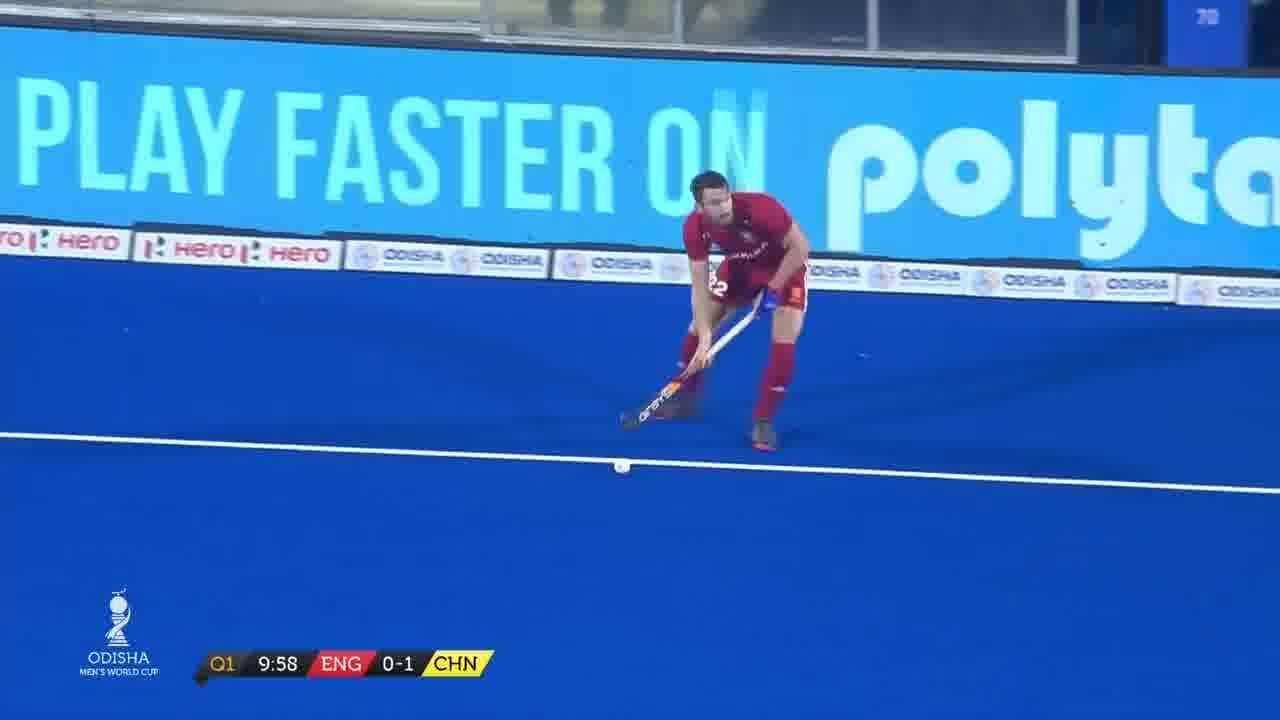ball: (606, 455, 634, 483)
